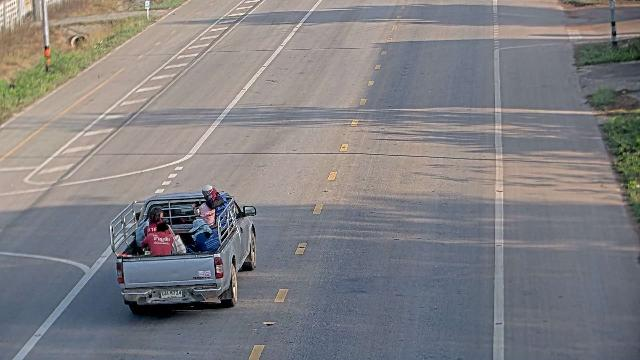pickup-truck: (109, 186, 257, 313)
